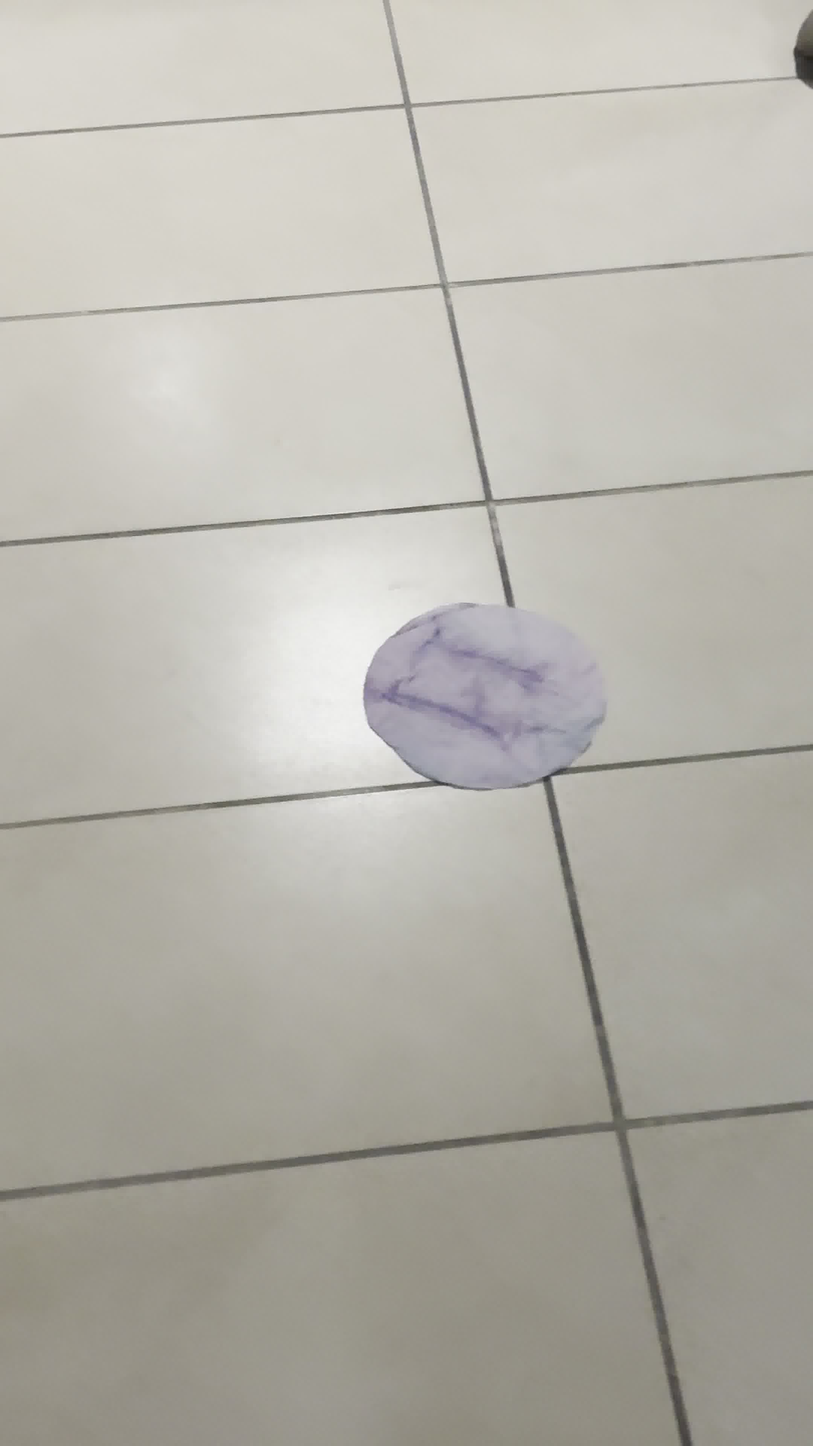Target: (363, 602, 613, 790)
